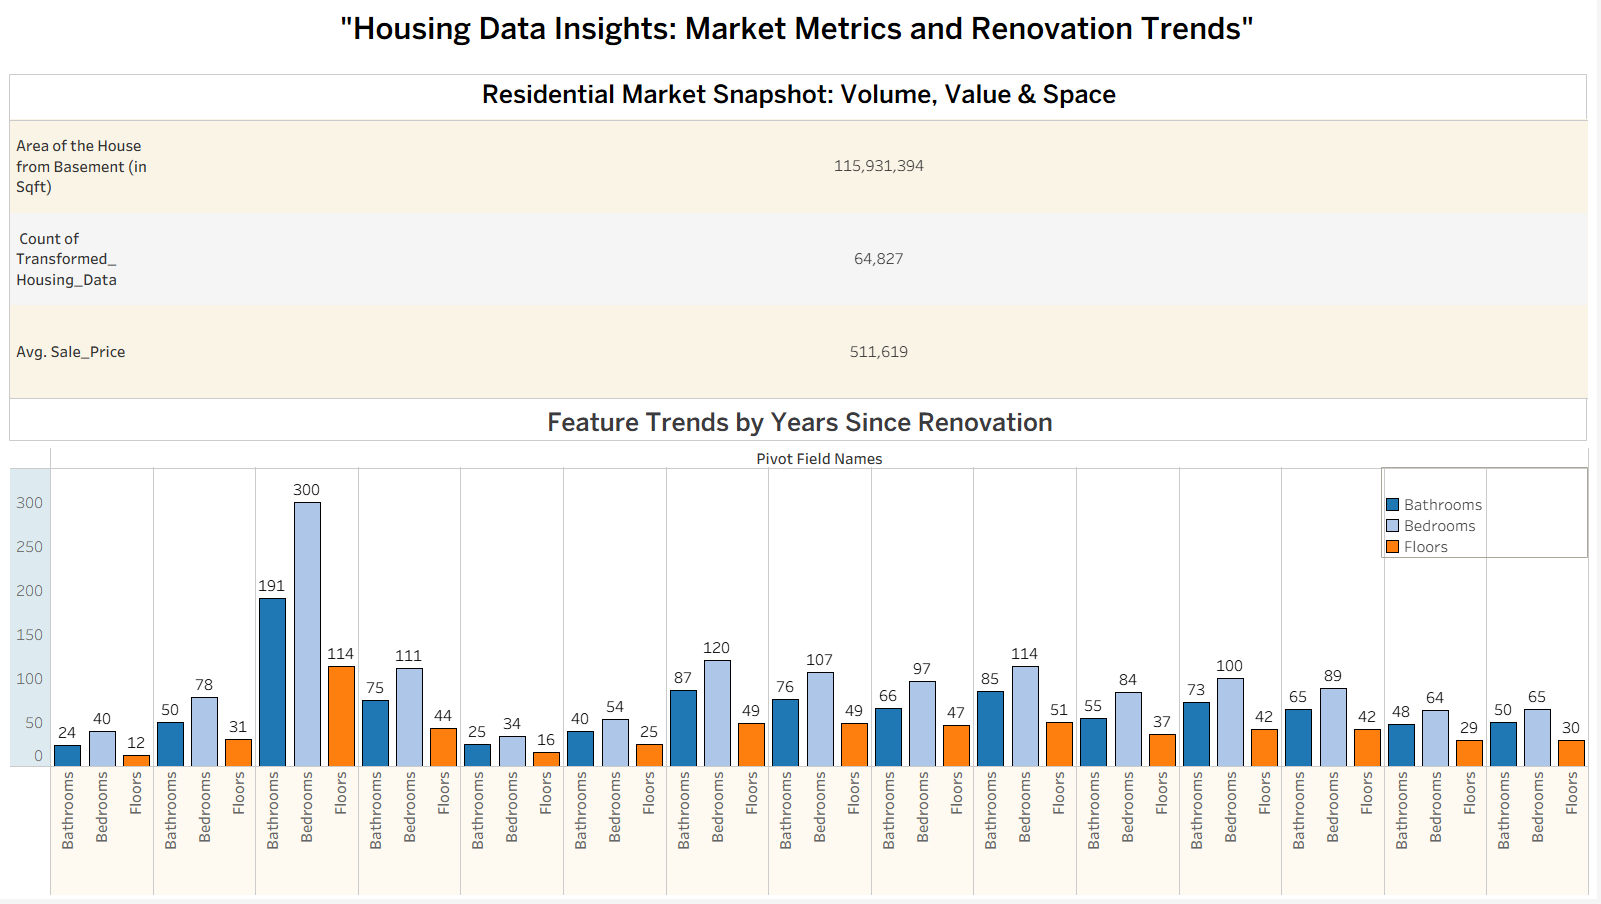

The page's visual inventory and layout, read from the dashboard file:
{"tool":"tableau","page":{"name":"Dashboard 2","canvas":[1600,900],"ordinal":1},"visuals":[{"type":"title","box":[8,8,1584,44]},{"type":"worksheet","title":"Sheet 1","mark":"Automatic","box":[13,76,1578,324]},{"type":"worksheet","title":"Sheet 2","mark":"Bar","rows":["Pivot Field Values"],"cols":["Years Since Renovation","Pivot Field Names"],"box":[13.3,404,1580,493]},{"type":"legend","title":"Sheet 2","param":"[federated.10buvhg0ozgo49190819e19qso8p].[none:Pivot Field Names:nk]","box":[1384,468,206.7,91]}]}

Visuals, with their boxes in screenshot pixels (x1, y1, x2, y2), scaled from the page's 1600x900 canvas onto the 1601x904 screenshot:
title: locate(8, 8, 1593, 52)
"Sheet 1" worksheet: locate(13, 76, 1592, 402)
"Sheet 2" worksheet (Bar marks): locate(13, 406, 1594, 901)
"Sheet 2" legend: locate(1385, 470, 1592, 561)
